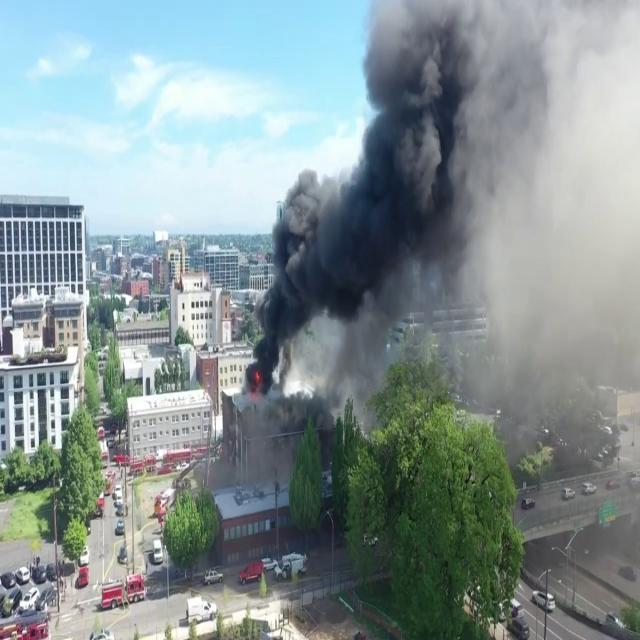Smoke: (254, 0, 638, 396), (253, 1, 493, 387)
